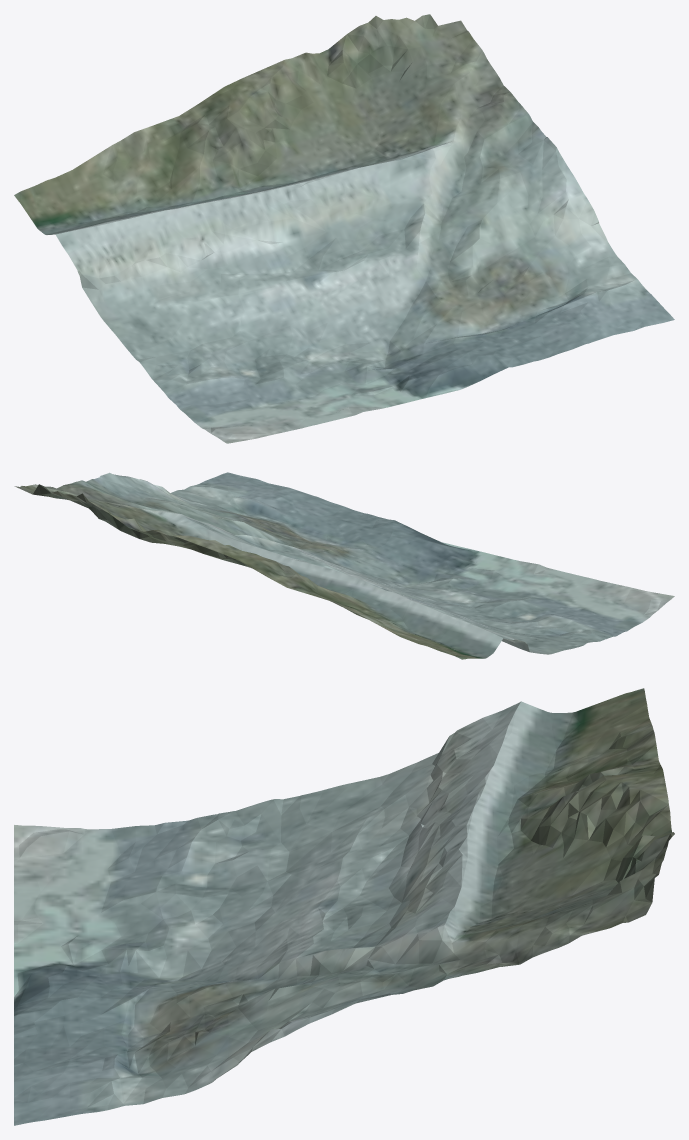
3 renders of one model, top to bottom at view 1: azimuth 30°, elevation 25°; view 2: azimuth 150°, elevation 25°; view 3: azimuth 270°, elevation 25°, orthographic. The views are drawn at different scales.
Parts seen in each view (by area): view 1: Plane; view 2: Plane; view 3: Plane.
Boxes of the visible parts, x1,y1,x2,y2 form: Plane: (14,14,674,443); Plane: (14,472,674,659); Plane: (14,688,674,1125).
Size of the model in its own units: 0.5 by 0.1901 by 0.4327.
1 material, 1 textured.
